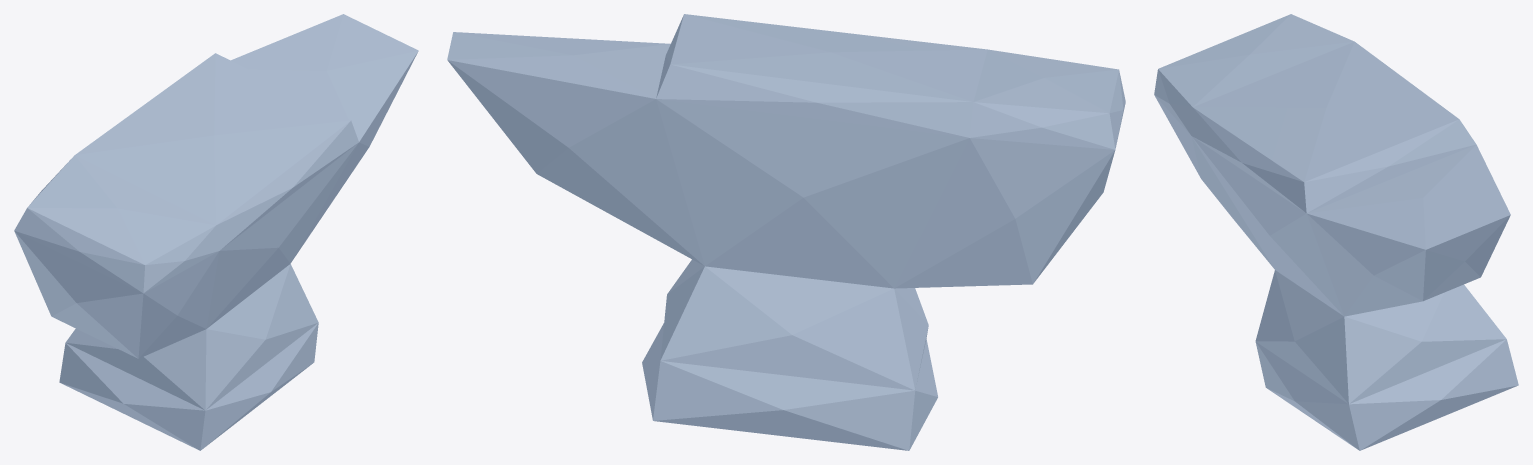
Rendered from trinketCrystalAnvil.fbx.
3 renders of one model, left to right at view 1: azimuth 30°, elevation 25°; view 2: azimuth 150°, elevation 25°; view 3: azimuth 270°, elevation 25°, orthographic. The views are drawn at different scales.
Visible parts, largest first — view 1: trinketCrystalAnvil; view 2: trinketCrystalAnvil; view 3: trinketCrystalAnvil.
Part boxes in pixels (bbox=[...]): trinketCrystalAnvil: bbox=[14, 14, 418, 450]; trinketCrystalAnvil: bbox=[447, 14, 1125, 450]; trinketCrystalAnvil: bbox=[1154, 14, 1518, 450].
Size of the model in its own units: 1.61 by 1.01 by 1.04.
